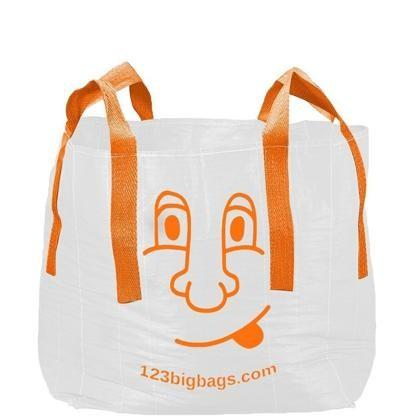not trash: (38, 62, 379, 416)
